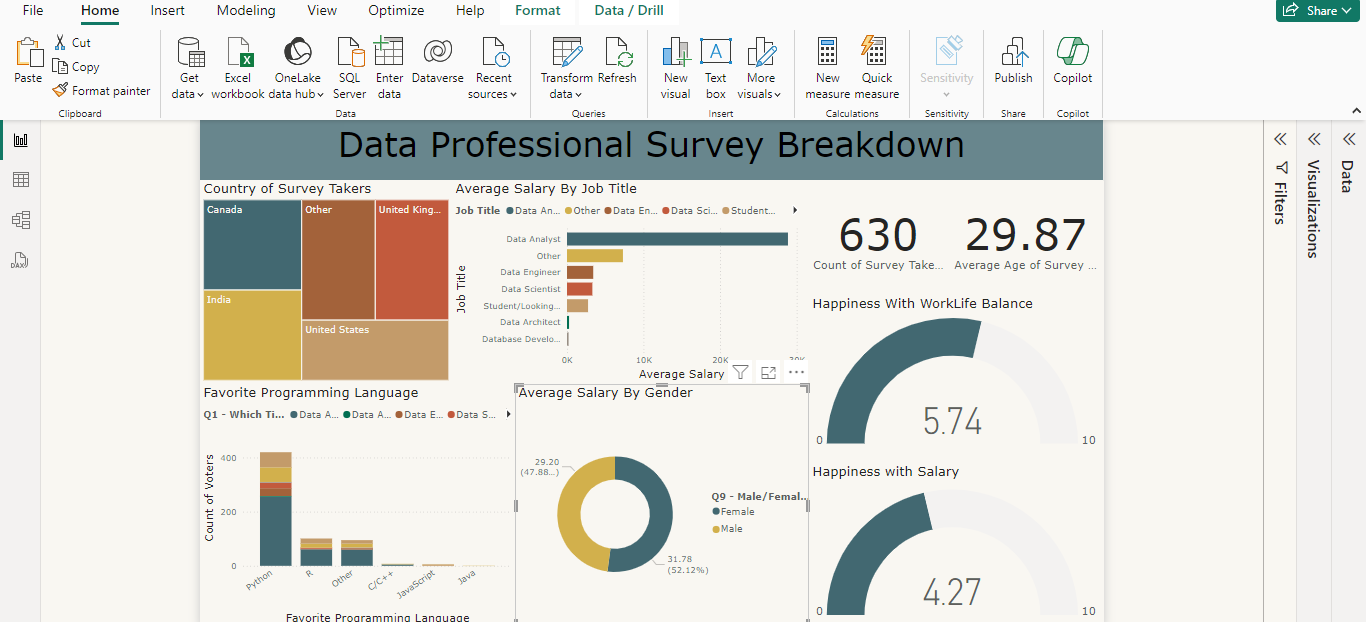

The dashboard page shown, as its layout file describes it:
{"tool":"powerbi","page":{"name":"Page 1","canvas":[1280,720],"ordinal":0},"visuals":[{"type":"textbox","box":[0,0,1280,85.7],"z":0},{"type":"card","fields":{"Values":["Count(Data Professional Survey.Unique ID)"]},"box":[863.4,85.7,196.5,164.6],"z":1000},{"type":"card","fields":{"Values":["Avg(Data Professional Survey.Q10 - Current Age)"]},"box":[1059.9,85.7,220.1,164.6],"z":2000},{"type":"barChart","title":"Average Salary By Job Title","fields":{"Category":["Data Professional Survey.Q1 - Which Title Best Fits your Current Role?.1"],"Y":["Sum(Data Professional Survey.Average Salary)"],"Series":["Data Professional Survey.Q1 - Which Title Best Fits your Current Role?.1"]},"box":[357.8,85.7,505.6,288.9],"z":3000},{"type":"columnChart","title":" Favorite Programming Language","fields":{"Category":["Data Professional Survey.Q5 - Favorite Programming Language.1"],"Y":["CountNonNull(Data Professional Survey.Unique ID)"],"Series":["Data Professional Survey.Q1 - Which Title Best Fits your Current Role?.1"]},"box":[0,374.6,446.8,346],"z":4000},{"type":"treemap","title":"Country of Survey Takers","fields":{"Group":["Data Professional Survey.Q11 - Which Country do you live in?.1"],"Values":["Count(Data Professional Survey.Q11 - Which Country do you live in?.1)"]},"box":[0,85.7,357.8,288.9],"z":5000},{"type":"gauge","title":"Happiness With WorkLife Balance","fields":{"Y":["Avg(Data Professional Survey.Q6 - How Happy are you in your Current Position with the following? (Work/Life Balance))"],"MinValue":["Min(Data Professional Survey.Q6 - How Happy are you in your Current Position with the following? (Work/Life Balance))1"],"MaxValue":["Max(Data Professional Survey.Q6 - How Happy are you in your Current Position with the following? (Work/Life Balance))2"]},"box":[863.4,248.6,416.6,225.1],"z":6000},{"type":"gauge","title":"Happiness with Salary","fields":{"Y":["Avg(Data Professional Survey.Q6 - How Happy are you in your Current Position with the following? (Salary))"],"MinValue":["Min(Data Professional Survey.Q6 - How Happy are you in your Current Position with the following? (Salary))"],"MaxValue":["Max(Data Professional Survey.Q6 - How Happy are you in your Current Position with the following? (Salary))"]},"box":[863.4,485.5,416.6,235.2],"z":7000},{"type":"donutChart","title":"Average Salary By Gender","fields":{"Category":["Data Professional Survey.Q9 - Male/Female?"],"Y":["Avg(Data Professional Survey.Q10 - Current Age)"]},"box":[446.8,374.6,416.6,346],"z":8000}]}

Visuals, with their boxes on the page's 1280x720 design canvas (x1, y1, x2, y2). These are canvas units, not pixel positions in the 1366x622 screenshot, which may show the page scaled, cropped or inside an application window:
textbox: box=[0, 0, 1280, 86]
card - Count(Data Professional Survey.Unique ID): box=[863, 86, 1060, 250]
card - Avg(Data Professional Survey.Q10 - Current Age): box=[1060, 86, 1280, 250]
"Average Salary By Job Title" barChart: box=[358, 86, 863, 375]
" Favorite Programming Language" columnChart: box=[0, 375, 447, 721]
"Country of Survey Takers" treemap: box=[0, 86, 358, 375]
"Happiness With WorkLife Balance" gauge: box=[863, 249, 1280, 474]
"Happiness with Salary" gauge: box=[863, 486, 1280, 721]
"Average Salary By Gender" donutChart: box=[447, 375, 863, 721]
